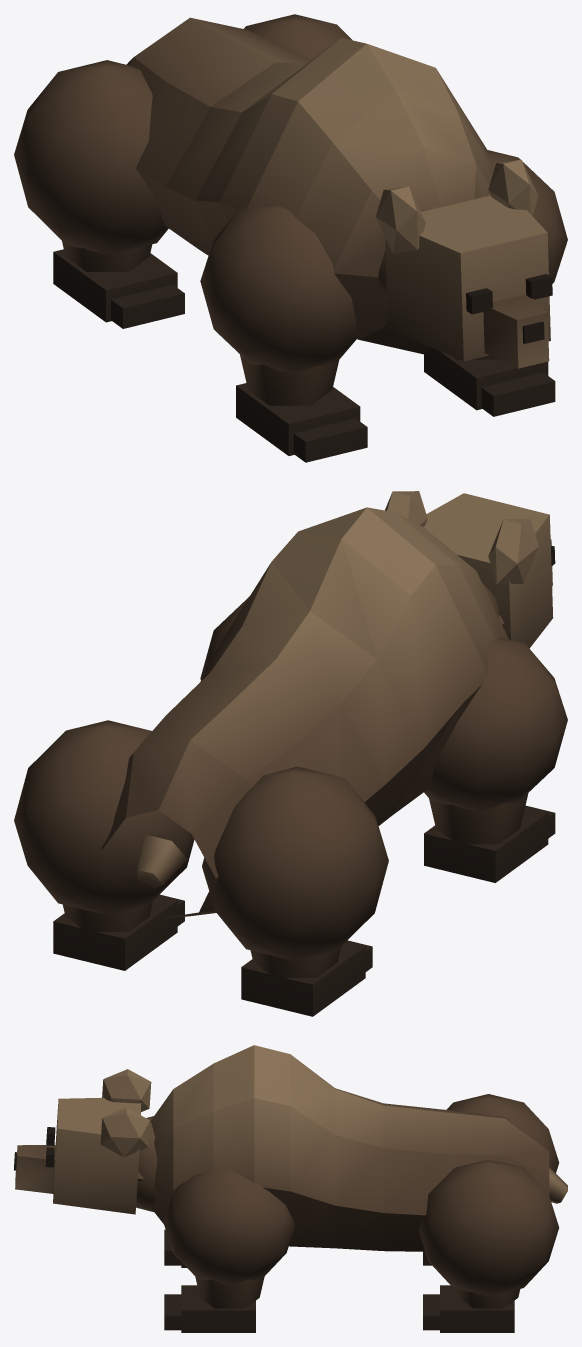
Rendered from original-bear.glb.
3 views of the same model, one above another, from view 1: azimuth 30°, elevation 25°; view 2: azimuth 150°, elevation 25°; view 3: azimuth 270°, elevation 25° (orthographic). The views are drawn at different scales.
Parts seen in each view (by area): view 1: Body, Head, Paw_Front_R, Paw_Rear_R, Paw_Front_L, LowerLeg_Front_R, LowerLeg_Rear_R; view 2: Body, Head, Paw_Front_R, Paw_Rear_R, Paw_Rear_L, LowerLeg_Front_R, Tail, LowerLeg_Rear_R, LowerLeg_Rear_L; view 3: Body, Head, Paw_Front_L, Paw_Rear_L, LowerLeg_Front_L, LowerLeg_Rear_L, Tail.
Part boxes in pixels (x1,y1,x2,y2): Body: [14, 14, 567, 373]; Head: [376, 159, 552, 368]; Paw_Front_R: [236, 383, 367, 462]; Paw_Rear_R: [53, 249, 184, 328]; Paw_Front_L: [424, 348, 555, 416]; LowerLeg_Front_R: [240, 354, 339, 405]; LowerLeg_Rear_R: [62, 241, 152, 271]; Body: [14, 507, 567, 960]; Head: [385, 491, 555, 648]; Paw_Front_R: [424, 805, 555, 882]; Paw_Rear_R: [241, 940, 372, 1016]; Paw_Rear_L: [53, 894, 184, 970]; LowerLeg_Front_R: [429, 793, 528, 844]; Tail: [137, 834, 187, 887]; LowerLeg_Rear_R: [250, 947, 340, 977]; LowerLeg_Rear_L: [62, 901, 152, 931]; Body: [136, 1045, 559, 1296]; Head: [14, 1069, 151, 1214]; Paw_Front_L: [164, 1285, 255, 1332]; Paw_Rear_L: [423, 1285, 514, 1332]; LowerLeg_Front_L: [195, 1277, 264, 1308]; LowerLeg_Rear_L: [457, 1289, 520, 1308]; Tail: [549, 1167, 567, 1203].
Bounding box in the file's own units: 0.938 × 0.8888 × 1.84.
